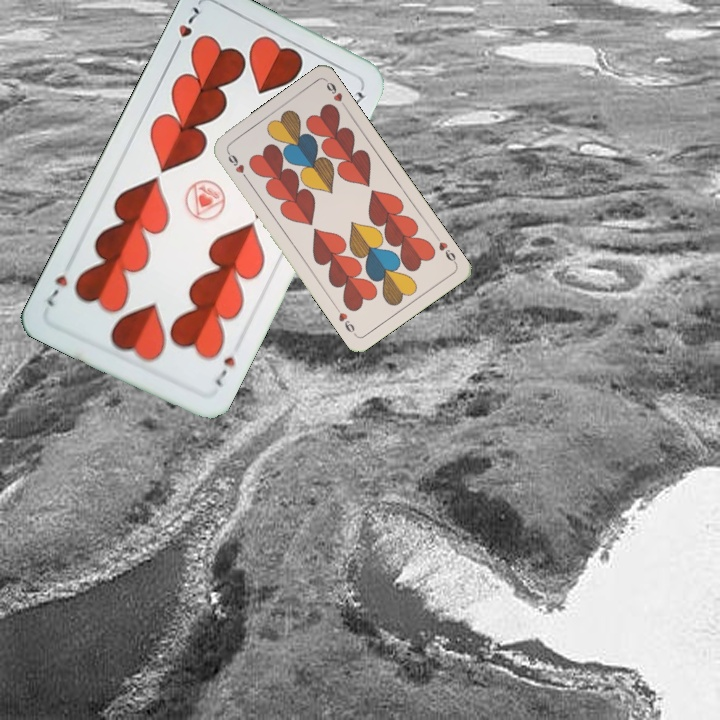H7: (169, 2, 203, 56), (211, 352, 238, 390)
H9: (431, 231, 459, 267), (223, 148, 251, 183)
